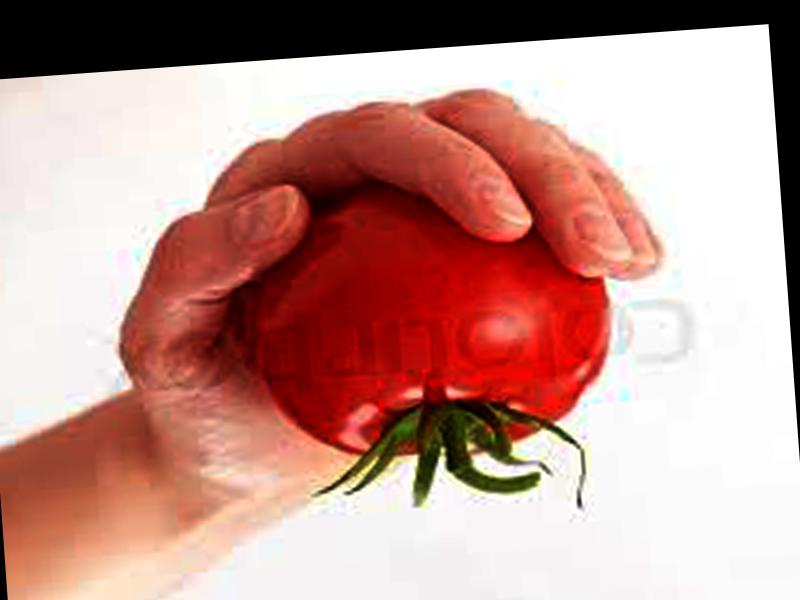Tomato: (248, 170, 618, 470)
